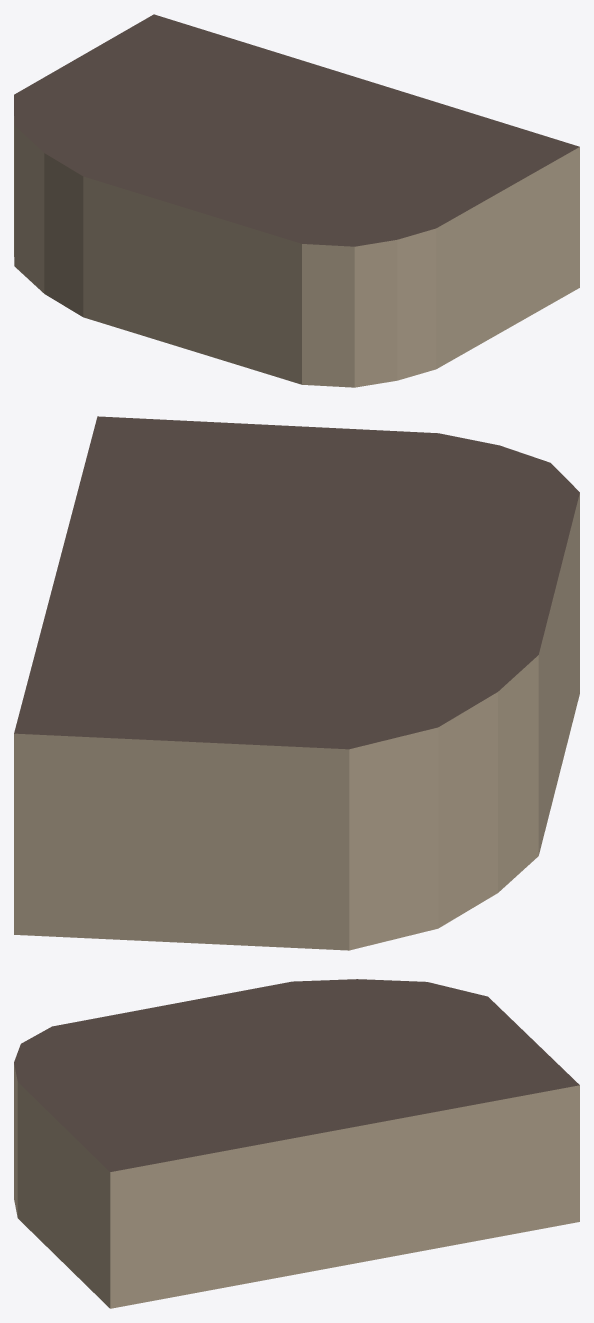
The picture shows the model from 3 angles, top to bottom: view 1: azimuth 30°, elevation 25°; view 2: azimuth 150°, elevation 25°; view 3: azimuth 270°, elevation 25°; orthographic projection. The views are drawn at different scales.
Parts seen in each view (by area): view 1: HP-w859082442; view 2: HP-w859082442; view 3: HP-w859082442.
Part boxes in pixels (box(x1,y1,x2,y2)): HP-w859082442: box(14, 14, 579, 387); HP-w859082442: box(14, 416, 579, 950); HP-w859082442: box(14, 979, 579, 1308).
Bounding box in the file's own units: 27.27 × 9 × 33.78.
